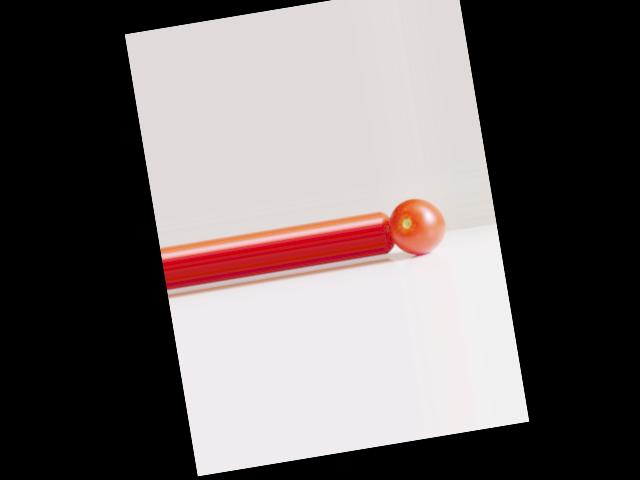tomato: (385, 194, 449, 258)
